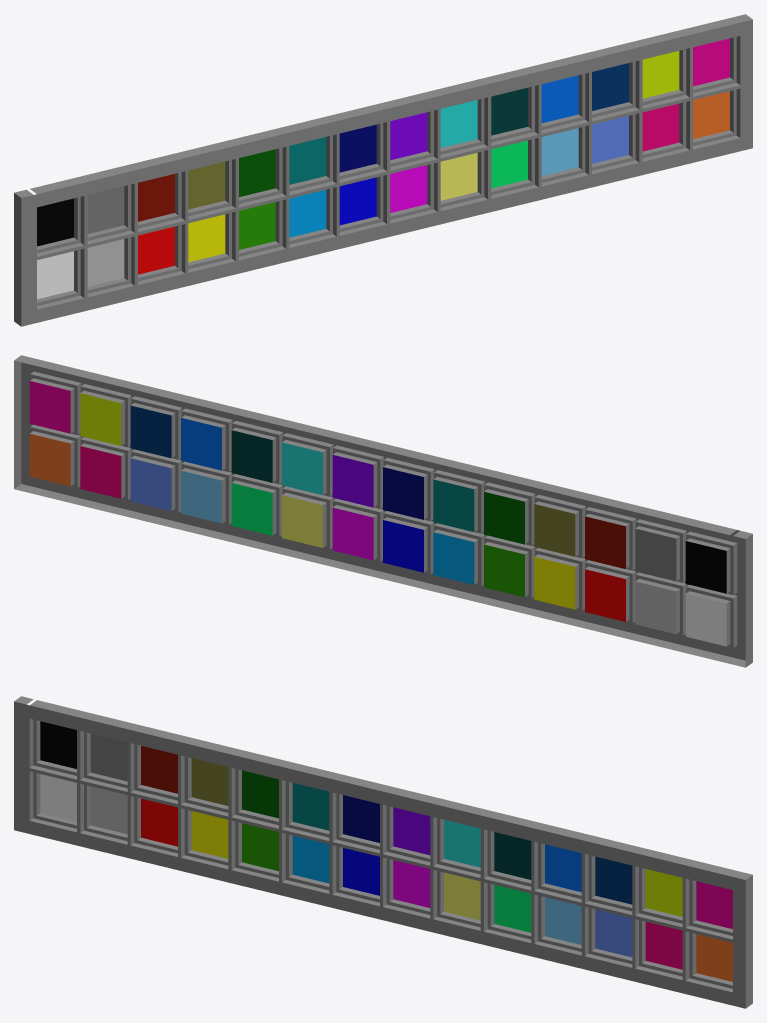
The model's file is Colors.glb.
3 views of the same model, one above another, from view 1: azimuth 30°, elevation 25°; view 2: azimuth 150°, elevation 25°; view 3: azimuth 330°, elevation 25° (orthographic).
Visible parts, largest first — view 1: Colors; view 2: Colors; view 3: Colors.
Boxes of the visible parts, bbox=[...] form: Colors: bbox=[14, 14, 752, 326]; Colors: bbox=[14, 355, 752, 667]; Colors: bbox=[14, 696, 752, 1008].
Size of the model in its own units: 5.8 by 0.975 by 0.1.
